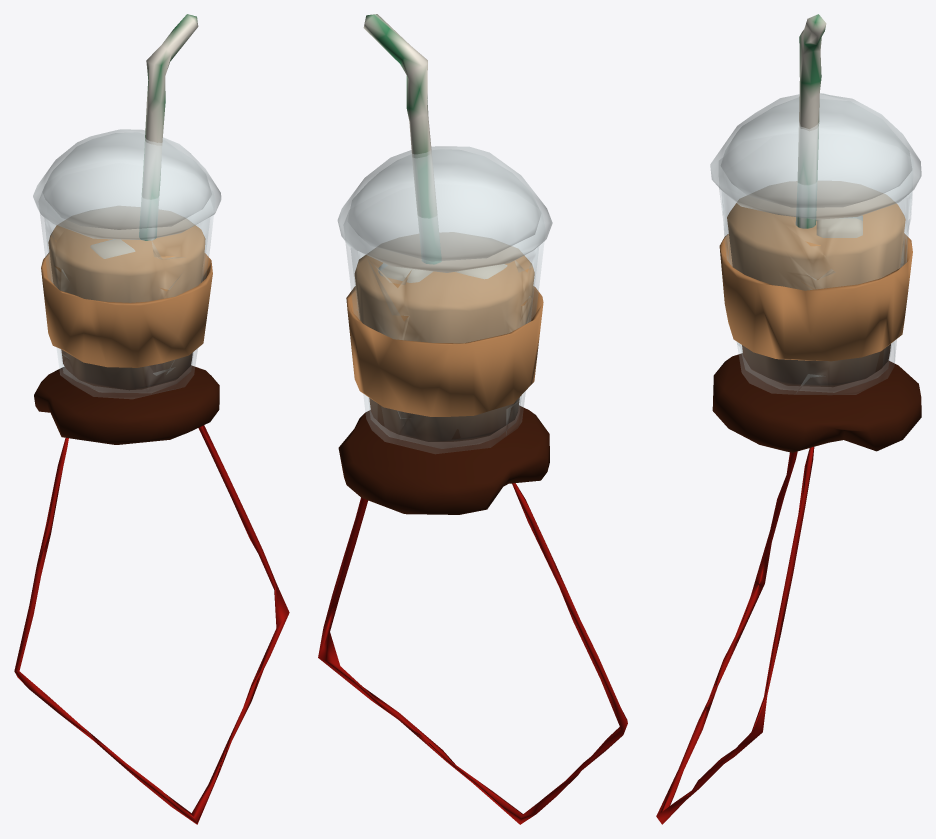
File: lycaphe.glb
3 renders of one model, left to right at view 1: azimuth 30°, elevation 25°; view 2: azimuth 150°, elevation 25°; view 3: azimuth 270°, elevation 25°, orthographic. The views are drawn at different scales.
Parts seen in each view (by area): view 1: Nap_Vom, Ly_Nhua, Ca_Phe, Vo_Giay, De_Ni, Day_Cam, Ong_Hut, Da_Vien; view 2: Nap_Vom, Ly_Nhua, Ca_Phe, De_Ni, Vo_Giay, Day_Cam, Ong_Hut, Da_Vien; view 3: Nap_Vom, Ly_Nhua, Ca_Phe, Vo_Giay, De_Ni, Day_Cam, Ong_Hut, Da_Vien.
Part boxes in pixels (x1=…): Nap_Vom: x1=33, y1=129, x2=221, y2=240; Ly_Nhua: x1=40, y1=198, x2=214, y2=398; Ca_Phe: x1=48, y1=206, x2=205, y2=390; Vo_Giay: x1=41, y1=252, x2=212, y2=367; De_Ni: x1=34, y1=365, x2=219, y2=444; Day_Cam: x1=14, y1=425, x2=289, y2=824; Ong_Hut: x1=139, y1=14, x2=198, y2=240; Da_Vien: x1=90, y1=239, x2=134, y2=258; Nap_Vom: x1=337, y1=146, x2=552, y2=272; Ly_Nhua: x1=344, y1=211, x2=544, y2=453; Ca_Phe: x1=354, y1=232, x2=534, y2=441; De_Ni: x1=338, y1=405, x2=549, y2=514; Vo_Giay: x1=346, y1=286, x2=543, y2=416; Day_Cam: x1=318, y1=483, x2=627, y2=824; Ong_Hut: x1=363, y1=14, x2=441, y2=264; Da_Vien: x1=378, y1=263, x2=507, y2=282; Nap_Vom: x1=710, y1=93, x2=921, y2=219; Ly_Nhua: x1=719, y1=159, x2=912, y2=394; Ca_Phe: x1=727, y1=181, x2=905, y2=387; Vo_Giay: x1=719, y1=233, x2=912, y2=361; De_Ni: x1=712, y1=353, x2=921, y2=452; Day_Cam: x1=656, y1=447, x2=814, y2=824; Ong_Hut: x1=795, y1=14, x2=826, y2=228; Da_Vien: x1=816, y1=215, x2=862, y2=237.
Size of the model in its own units: 0.1515 by 0.3973 by 0.1134.
